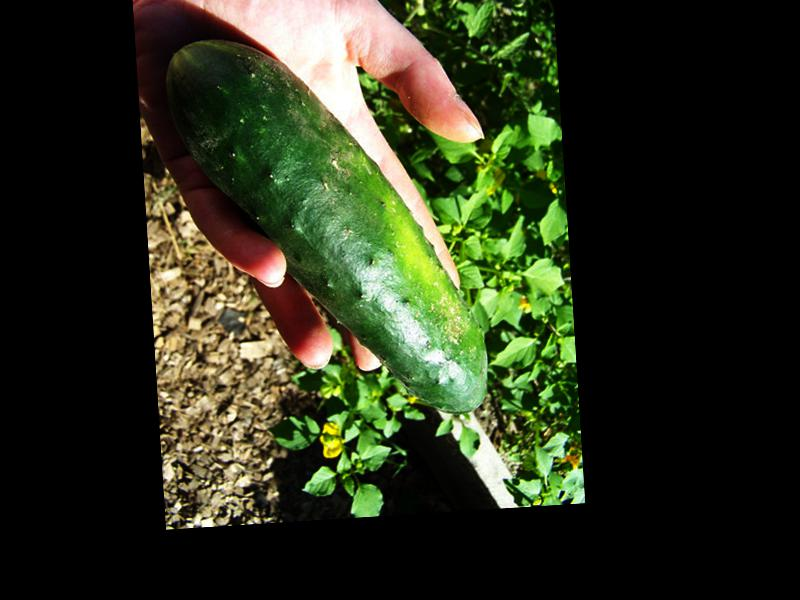Cucumber: (165, 25, 489, 432)
